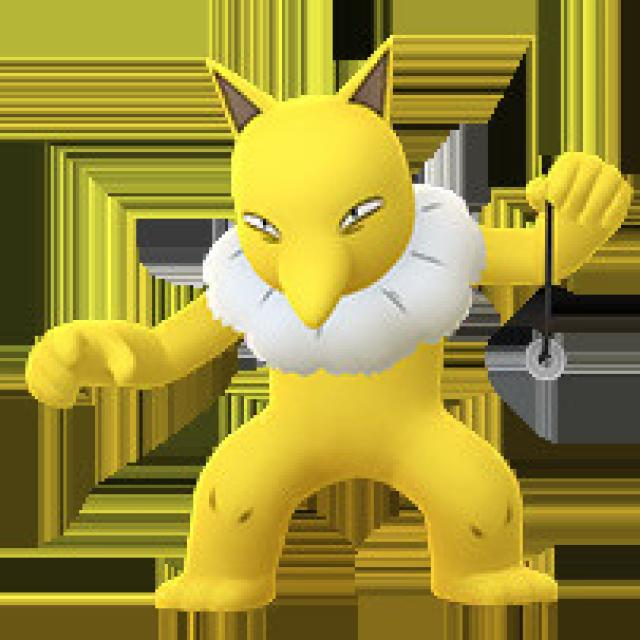Hypno: (28, 45, 621, 607)
